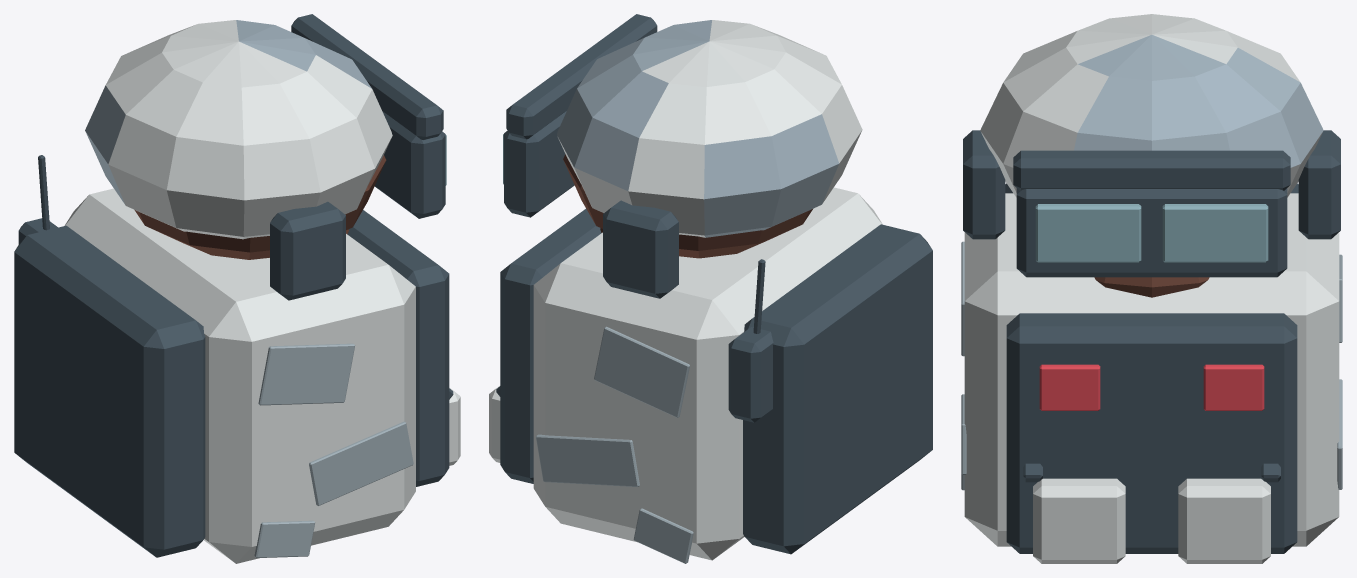
The model's file is crimson-guard.polar-camo.glb.
3 renders of one model, left to right at view 1: azimuth 30°, elevation 25°; view 2: azimuth 150°, elevation 25°; view 3: azimuth 270°, elevation 25°, orthographic. The views are drawn at different scales.
Visible parts, largest first — view 1: crimson-guard_polar-camo__main__torso_finish_485863_0.03, crimson-guard_polar-camo__main__torso_finish_e0e5e5_0.03, crimson-guard_polar-camo__main__head_finish_e0e5e5_0.03|fini, crimson-guard_polar-camo__main__head_finish_485863_0.03, crimson-guard_polar-camo__main__torso_finish_a0afb7_0.03, crimson-guard_polar-camo__main__head_finish_70483b_0.03; view 2: crimson-guard_polar-camo__main__torso_finish_485863_0.03, crimson-guard_polar-camo__main__torso_finish_e0e5e5_0.03, crimson-guard_polar-camo__main__head_finish_e0e5e5_0.03|fini, crimson-guard_polar-camo__main__head_finish_485863_0.03, crimson-guard_polar-camo__main__torso_finish_a0afb7_0.03, crimson-guard_polar-camo__main__head_finish_70483b_0.03; view 3: crimson-guard_polar-camo__main__torso_finish_e0e5e5_0.03, crimson-guard_polar-camo__main__torso_finish_485863_0.03, crimson-guard_polar-camo__main__head_finish_e0e5e5_0.03|fini, crimson-guard_polar-camo__main__head_finish_485863_0.03, crimson-guard_polar-camo__main__head_finish_91b6c0_0.03, crimson-guard_polar-camo__main__torso_finish_e64f5c_0.03, crimson-guard_polar-camo__main__torso_finish_a0afb7_0.03, crimson-guard_polar-camo__main__head_finish_70483b_0.03.
Boxes of the visible parts, x1,y1,x2,y2 form: crimson-guard_polar-camo__main__torso_finish_485863_0.03: (14,155,453,557); crimson-guard_polar-camo__main__torso_finish_e0e5e5_0.03: (64,188,460,563); crimson-guard_polar-camo__main__head_finish_e0e5e5_0.03|fini: (85,20,392,239); crimson-guard_polar-camo__main__head_finish_485863_0.03: (270,14,445,300); crimson-guard_polar-camo__main__torso_finish_a0afb7_0.03: (254,343,413,557); crimson-guard_polar-camo__main__head_finish_70483b_0.03: (134,155,386,259); crimson-guard_polar-camo__main__torso_finish_485863_0.03: (496,208,932,554); crimson-guard_polar-camo__main__torso_finish_e0e5e5_0.03: (489,187,882,560); crimson-guard_polar-camo__main__head_finish_e0e5e5_0.03|fini: (557,20,862,237); crimson-guard_polar-camo__main__head_finish_485863_0.03: (504,14,678,298); crimson-guard_polar-camo__main__torso_finish_a0afb7_0.03: (536,326,693,563); crimson-guard_polar-camo__main__head_finish_70483b_0.03: (563,154,812,258); crimson-guard_polar-camo__main__torso_finish_e0e5e5_0.03: (964,193,1339,563); crimson-guard_polar-camo__main__torso_finish_485863_0.03: (1005,183,1298,553); crimson-guard_polar-camo__main__head_finish_e0e5e5_0.03|fini: (980,14,1323,197); crimson-guard_polar-camo__main__head_finish_485863_0.03: (963,130,1340,277); crimson-guard_polar-camo__main__head_finish_91b6c0_0.03: (1035,204,1268,262); crimson-guard_polar-camo__main__torso_finish_e64f5c_0.03: (1039,364,1264,410); crimson-guard_polar-camo__main__torso_finish_a0afb7_0.03: (961,241,1342,490); crimson-guard_polar-camo__main__head_finish_70483b_0.03: (1094,277,1209,297).
Size of the model in its own units: 30.25 by 39.5 by 28.87.
